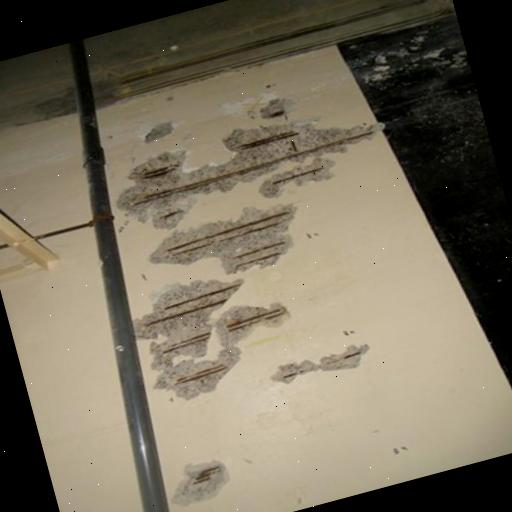spalling: (116, 115, 378, 230), (133, 278, 290, 401), (151, 204, 296, 273), (271, 336, 371, 383), (258, 158, 332, 197), (176, 454, 233, 504)
